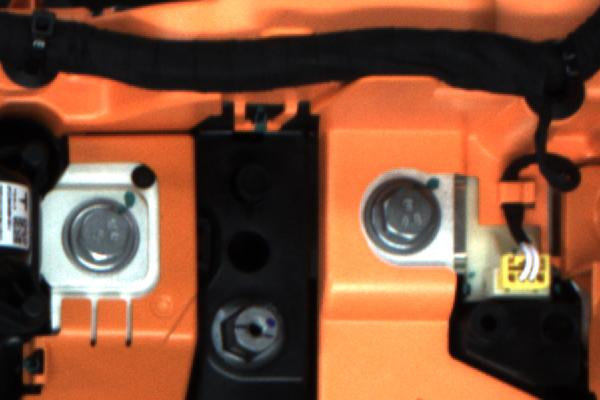nut_b: (57, 195, 152, 279), (350, 174, 441, 257)
